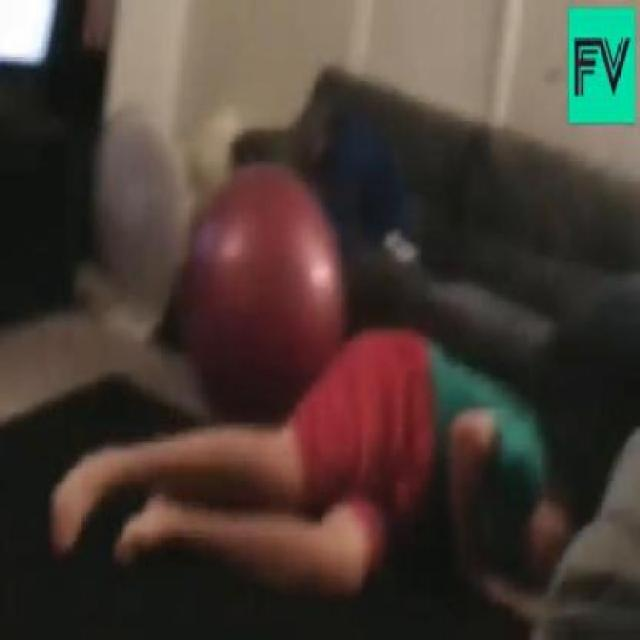fall: (49, 333, 560, 596)
